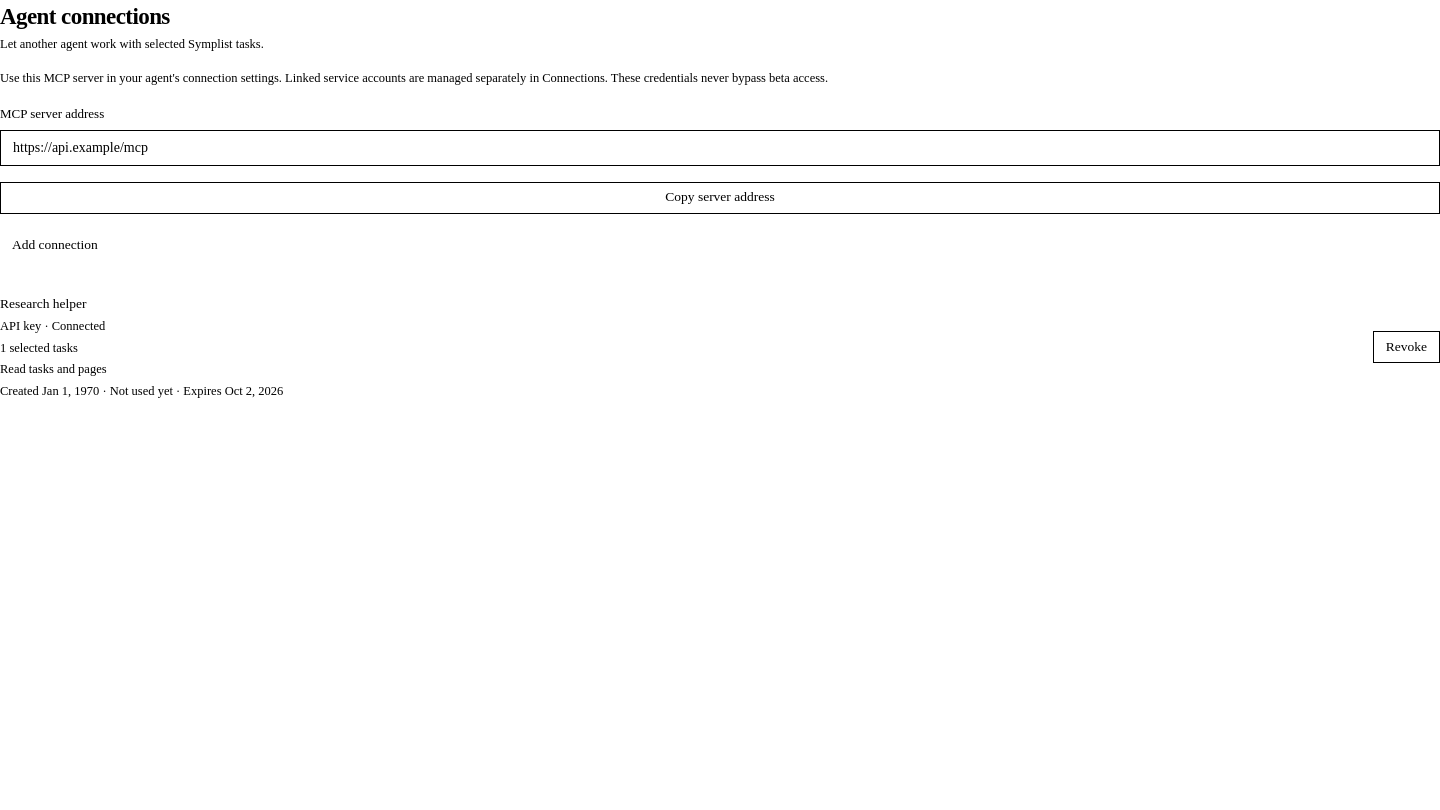
Test case: scoped incoming-agent connections › shows permissions and metadata, and requires revoke confirmation
Check: the text "Research helper" is shown, box [0,296,87,310]
Check: the list named "Authorized agents" shows "1 selected tasks", box [0,340,78,354]
What coordinates should you click on to do the following:
click the button with aria-label "Revoke Research helper"
I would click on:
 (1406, 347)
Its box is [1373,331,1439,363].
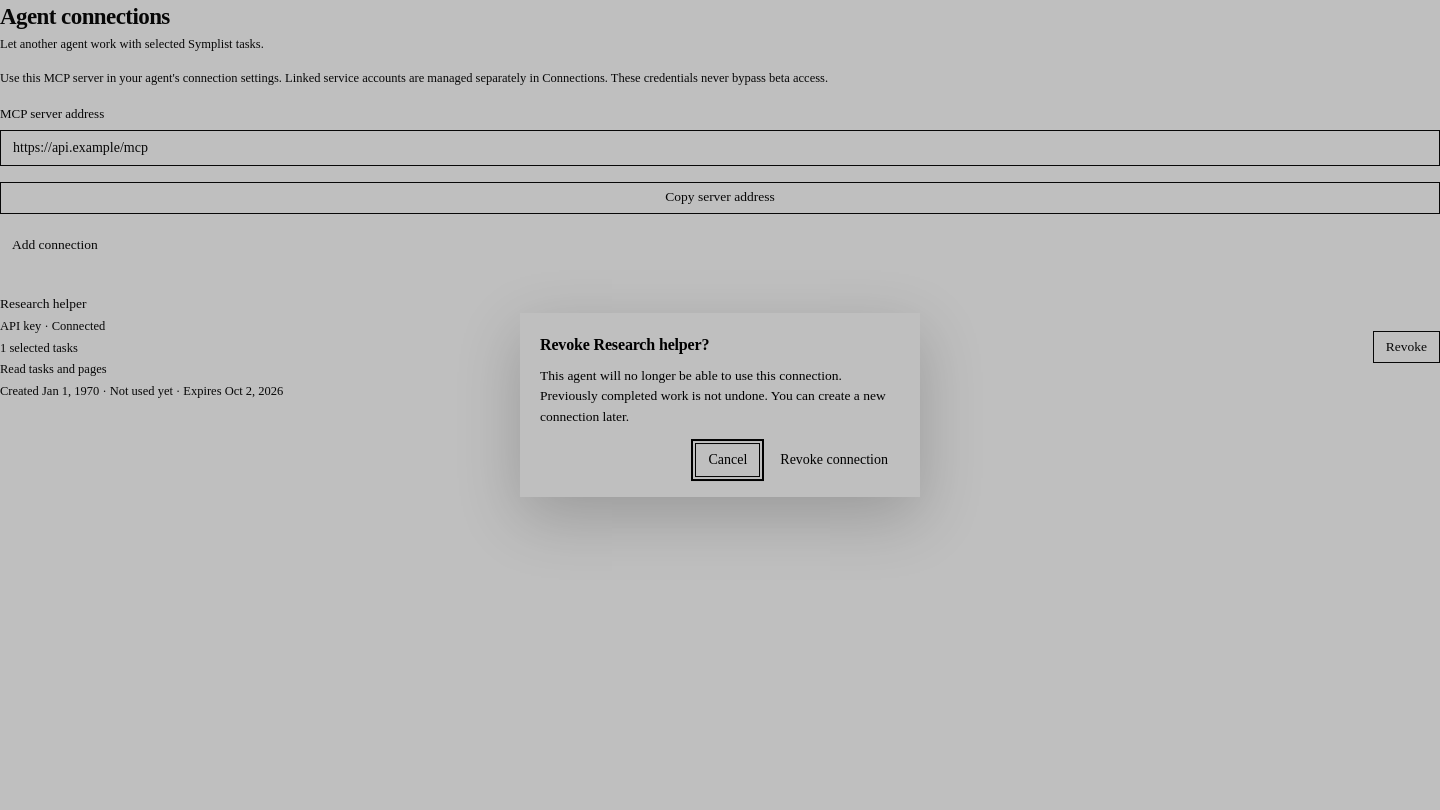
What coordinates should you click on to do the following:
click the button "Revoke connection"
I would click on:
 (834, 460)
Its box is [768,443,900,477].
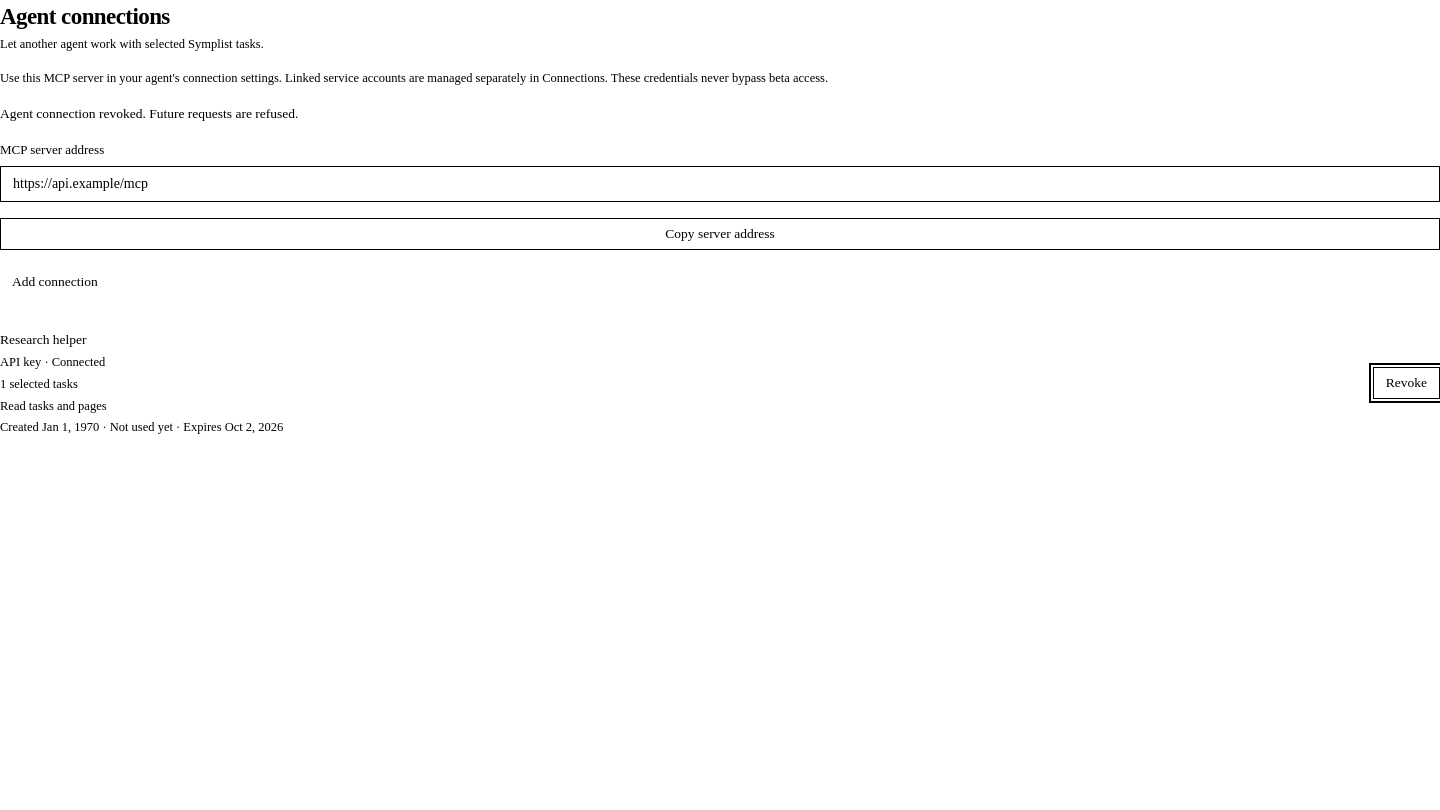
Check: the text "Agent connection revoked. Future requests are refused." is shown, box [0,106,298,121]
